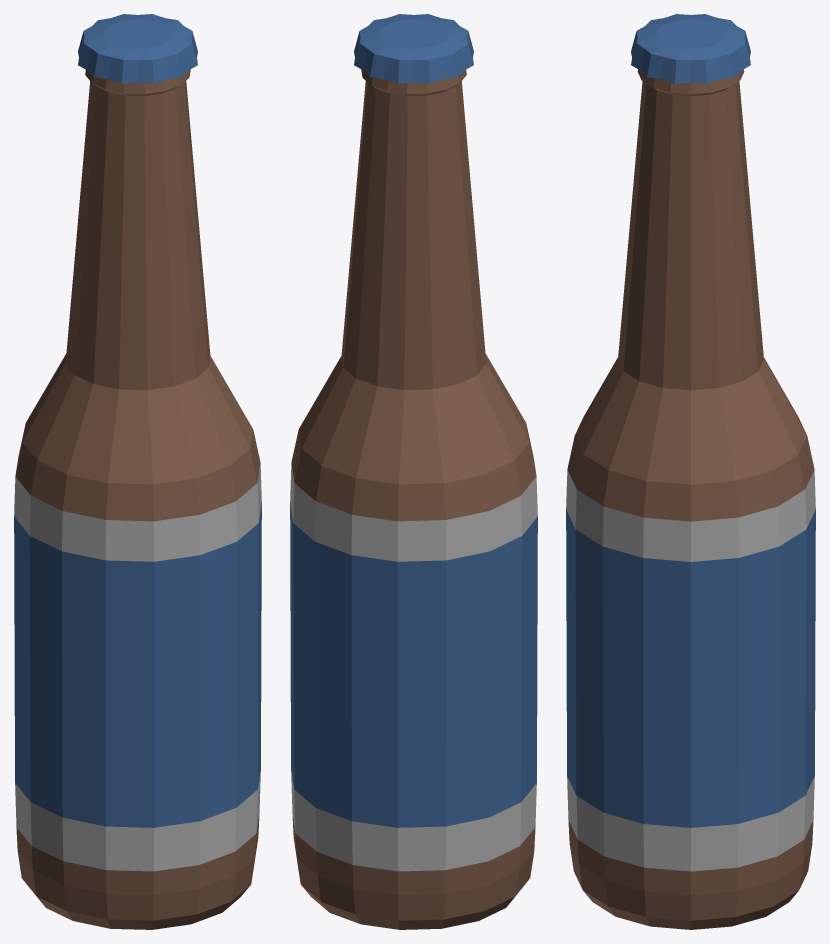
Rendered from Beer_03.fbx.
3 views of the same model, side by side, from view 1: azimuth 30°, elevation 25°; view 2: azimuth 150°, elevation 25°; view 3: azimuth 270°, elevation 25° (orthographic).
Parts seen in each view (by area): view 1: Beer_03; view 2: Beer_03; view 3: Beer_03.
Part boxes in pixels (x1=…): Beer_03: x1=14, y1=14, x2=261, y2=929; Beer_03: x1=290, y1=14, x2=537, y2=929; Beer_03: x1=566, y1=14, x2=815, y2=929.
Bounding box in the file's own units: 5.65 × 21.25 × 5.65.
